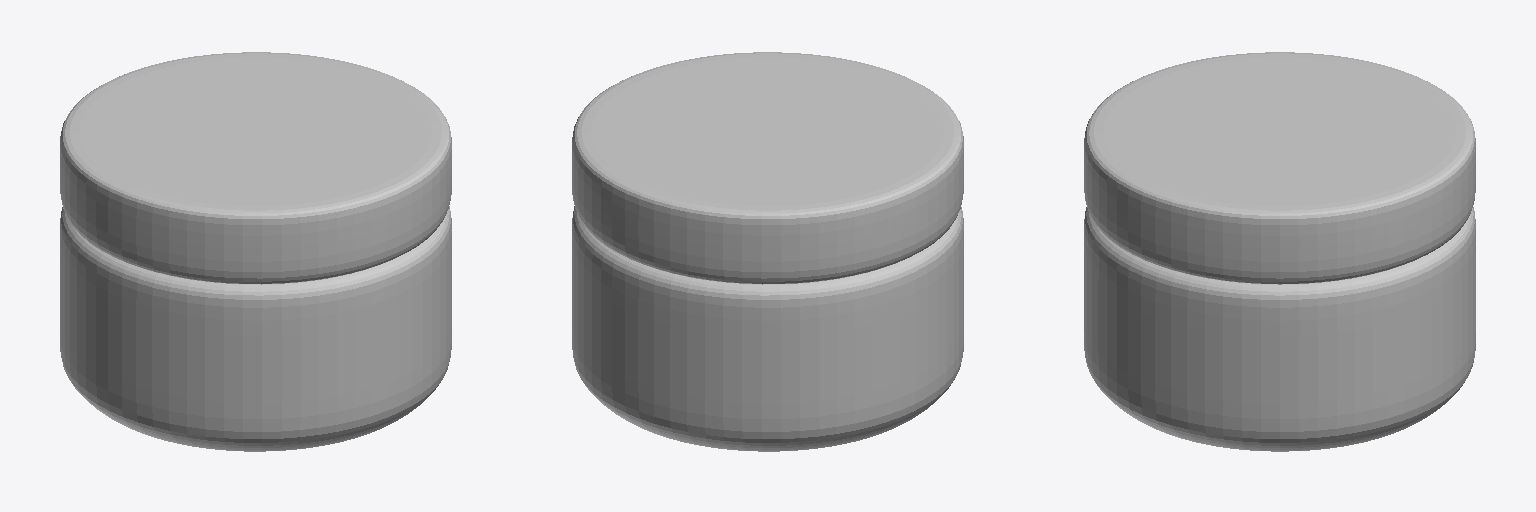
Rendered from cream.obj.
The picture shows the model from 3 angles: view 1: azimuth 30°, elevation 25°; view 2: azimuth 150°, elevation 25°; view 3: azimuth 270°, elevation 25°; orthographic projection.
Parts seen in each view (by area): view 1: cream_cream_Material_0; view 2: cream_cream_Material_0; view 3: cream_cream_Material_0.
Part boxes in pixels (x1,y1,x2,y2): cream_cream_Material_0: (60,52,451,451); cream_cream_Material_0: (572,52,963,451); cream_cream_Material_0: (1084,52,1475,451).
Bounding box in the file's own units: 1.67 × 1.17 × 1.67.